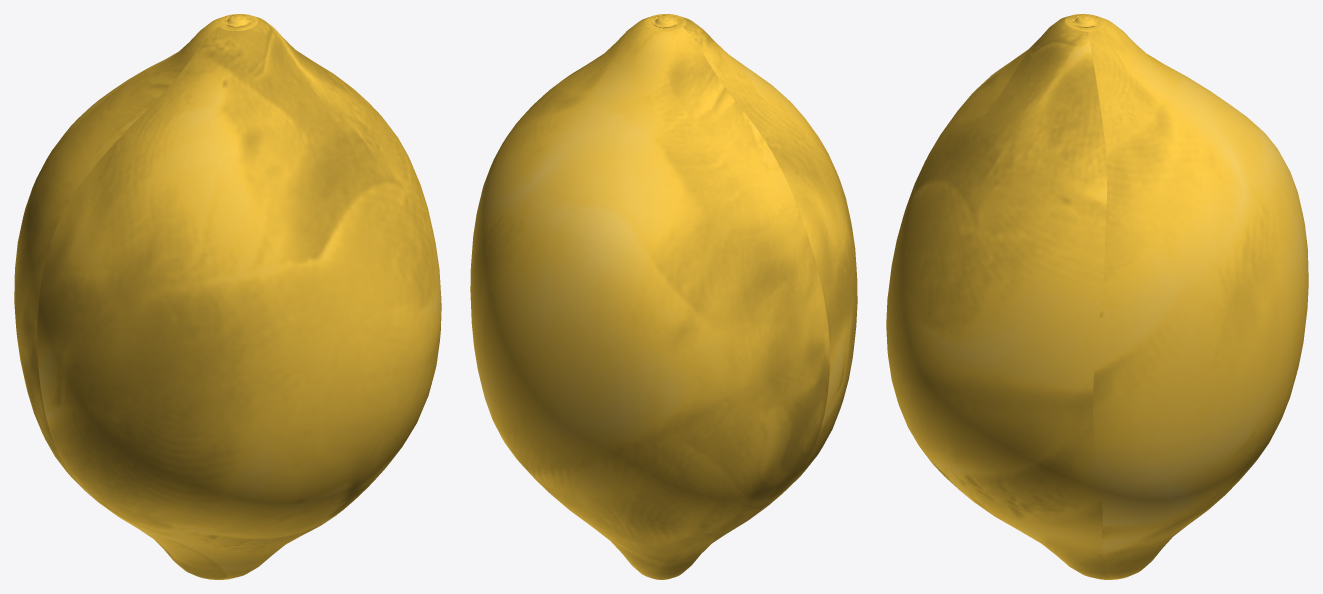
Rendered from Citron.FBX.
3 renders of one model, left to right at view 1: azimuth 30°, elevation 25°; view 2: azimuth 150°, elevation 25°; view 3: azimuth 270°, elevation 25°, orthographic. The views are drawn at different scales.
Visible parts, largest first — view 1: Citron_Positif; view 2: Citron_Positif; view 3: Citron_Positif.
Boxes of the visible parts, <box> form: Citron_Positif: <box>14,14,441,579</box>; Citron_Positif: <box>470,14,857,579</box>; Citron_Positif: <box>886,14,1308,579</box>.
Bounding box in the file's own units: 1.33 × 2 × 1.35.
